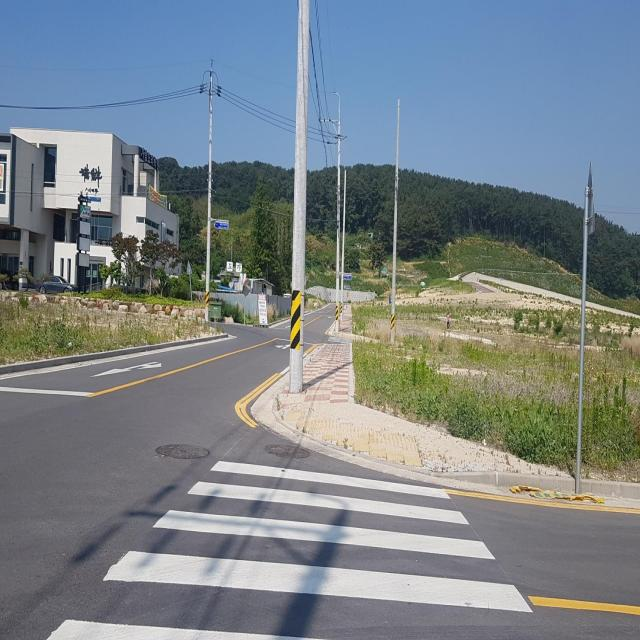횡단보도: (47, 458, 533, 640)
